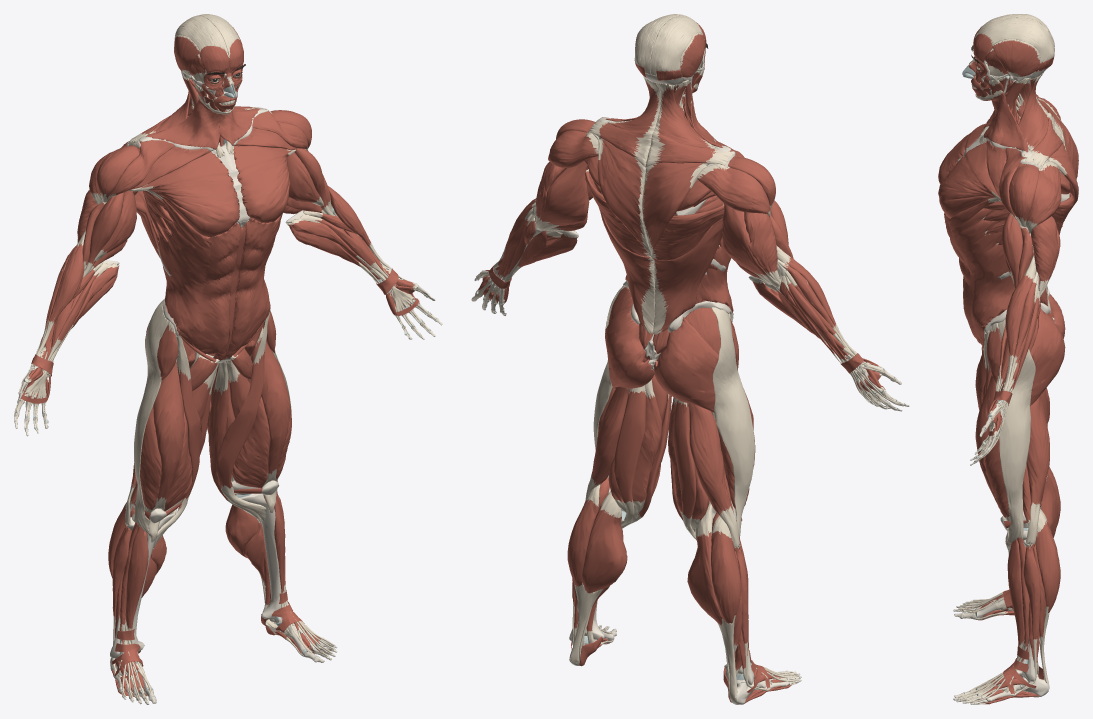
The model's file is male.glb.
3 views of the same model, side by side, from view 1: azimuth 30°, elevation 25°; view 2: azimuth 150°, elevation 25°; view 3: azimuth 270°, elevation 25° (orthographic). The views are drawn at different scales.
Visible parts, largest first — view 1: anatomy_other_muscles, anatomy_support_anatomy, anatomy_external_abdominal_oblique_muscle_r, anatomy_sternocostal_head_of_pectoralis_major_muscle_r, anatomy_external_abdominal_oblique_muscle_l, anatomy_sternocostal_head_of_pectoralis_major_muscle_l, anatomy_rectus_femoris_muscle_r, anatomy_rectus_femoris_muscle_l, anatomy_vastus_medialis_muscle_l, anatomy_gracilis_muscle_l, anatomy_vastus_lateralis_muscle_r, anatomy_tibialis_anterior_muscle_r (+21 smaller); view 2: anatomy_other_muscles, anatomy_latissimus_dorsi_muscle_r, anatomy_support_anatomy, anatomy_gluteus_maximus_muscle_r, anatomy_descending_part_of_trapezius_muscle_l, anatomy_latissimus_dorsi_muscle_l, anatomy_long_head_of_biceps_femoris_r, anatomy_descending_part_of_trapezius_muscle_r, anatomy_medial_head_of_gastrocnemius_l, anatomy_gluteus_maximus_muscle_l, anatomy_semitendinosus_muscle_l, anatomy_long_head_of_triceps_brachii_l (+24 smaller); view 3: anatomy_other_muscles, anatomy_external_abdominal_oblique_muscle_l, anatomy_support_anatomy, anatomy_sternocostal_head_of_pectoralis_major_muscle_l, anatomy_long_head_of_biceps_femoris_l, anatomy_gluteus_maximus_muscle_l, anatomy_lateral_head_of_gastrocnemius_l, anatomy_scapular_spinal_part_of_deltoid_muscle_l, anatomy_brachioradialis_muscle_l, anatomy_lateral_head_of_triceps_brachii_l, anatomy_acromial_part_of_deltoid_muscle_l, anatomy_ascending_part_of_trapezius_muscle_l (+20 smaller).
Boxes of the visible parts, <box> form: anatomy_other_muscles: <box>14,14,427,701</box>; anatomy_support_anatomy: <box>14,53,442,704</box>; anatomy_external_abdominal_oblique_muscle_r: <box>158,208,240,354</box>; anatomy_sternocostal_head_of_pectoralis_major_muscle_r: <box>128,151,239,237</box>; anatomy_external_abdominal_oblique_muscle_l: <box>230,218,280,351</box>; anatomy_sternocostal_head_of_pectoralis_major_muscle_l: <box>233,145,295,222</box>; anatomy_rectus_femoris_muscle_r: <box>148,359,184,542</box>; anatomy_rectus_femoris_muscle_l: <box>251,327,290,512</box>; anatomy_vastus_medialis_muscle_l: <box>231,397,269,503</box>; anatomy_gracilis_muscle_l: <box>208,361,261,522</box>; anatomy_vastus_lateralis_muscle_r: <box>140,406,161,535</box>; anatomy_tibialis_anterior_muscle_r: <box>126,527,148,669</box>; anatomy_other_muscles: <box>471,14,904,704</box>; anatomy_latissimus_dorsi_muscle_r: <box>652,204,724,334</box>; anatomy_support_anatomy: <box>472,43,909,704</box>; anatomy_gluteus_maximus_muscle_r: <box>654,317,718,412</box>; anatomy_descending_part_of_trapezius_muscle_l: <box>597,136,653,259</box>; anatomy_latissimus_dorsi_muscle_l: <box>585,169,654,333</box>; anatomy_long_head_of_biceps_femoris_r: <box>687,403,740,547</box>; anatomy_descending_part_of_trapezius_muscle_r: <box>642,162,709,258</box>; anatomy_medial_head_of_gastrocnemius_l: <box>582,491,627,593</box>; anatomy_gluteus_maximus_muscle_l: <box>605,305,654,388</box>; anatomy_semitendinosus_muscle_l: <box>614,385,646,526</box>; anatomy_long_head_of_triceps_brachii_l: <box>535,161,589,230</box>; anatomy_other_muscles: <box>958,14,1070,704</box>; anatomy_external_abdominal_oblique_muscle_l: <box>944,208,1014,343</box>; anatomy_support_anatomy: <box>953,45,1069,704</box>; anatomy_sternocostal_head_of_pectoralis_major_muscle_l: <box>938,142,1001,218</box>; anatomy_long_head_of_biceps_femoris_l: <box>1026,395,1049,545</box>; anatomy_gluteus_maximus_muscle_l: <box>1030,308,1065,405</box>; anatomy_lateral_head_of_gastrocnemius_l: <box>1035,511,1060,613</box>; anatomy_scapular_spinal_part_of_deltoid_muscle_l: <box>1025,161,1061,233</box>; anatomy_brachioradialis_muscle_l: <box>1003,253,1036,390</box>; anatomy_lateral_head_of_triceps_brachii_l: <box>1031,216,1059,296</box>; anatomy_acromial_part_of_deltoid_muscle_l: <box>1009,162,1039,226</box>; anatomy_ascending_part_of_trapezius_muscle_l: <box>1018,72,1048,151</box>.
Bounding box in the file's own units: 1.39 × 2 × 0.3975.
